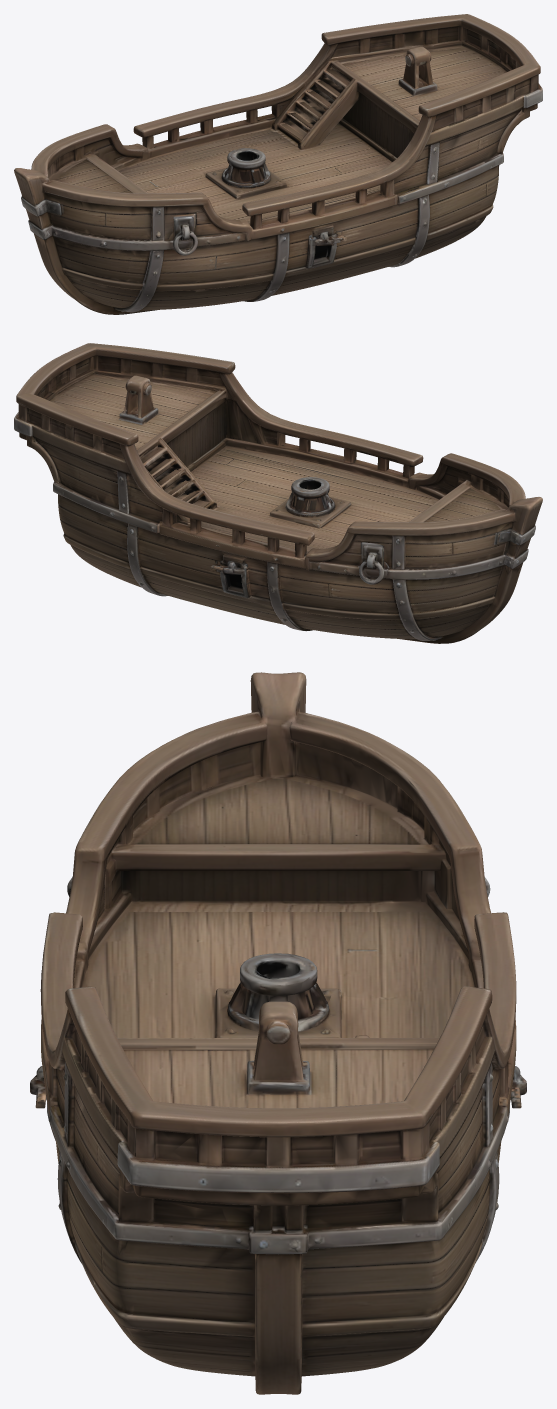
The model's file is Pirate_Boat_A_Level1_Mobile_2048.glb.
3 views of the same model, one above another, from view 1: azimuth 30°, elevation 25°; view 2: azimuth 150°, elevation 25°; view 3: azimuth 270°, elevation 25° (orthographic). The views are drawn at different scales.
Parts seen in each view (by area): view 1: node_0; view 2: node_0; view 3: node_0.
Boxes of the visible parts, x1=… form: node_0: x1=14, y1=14, x2=542, y2=314; node_0: x1=14, y1=343, x2=542, y2=643; node_0: x1=30, y1=672, x2=526, y2=1394.
Bounding box in the file's own units: 1.14 × 0.4332 × 0.4956.
1 material, 1 textured.
